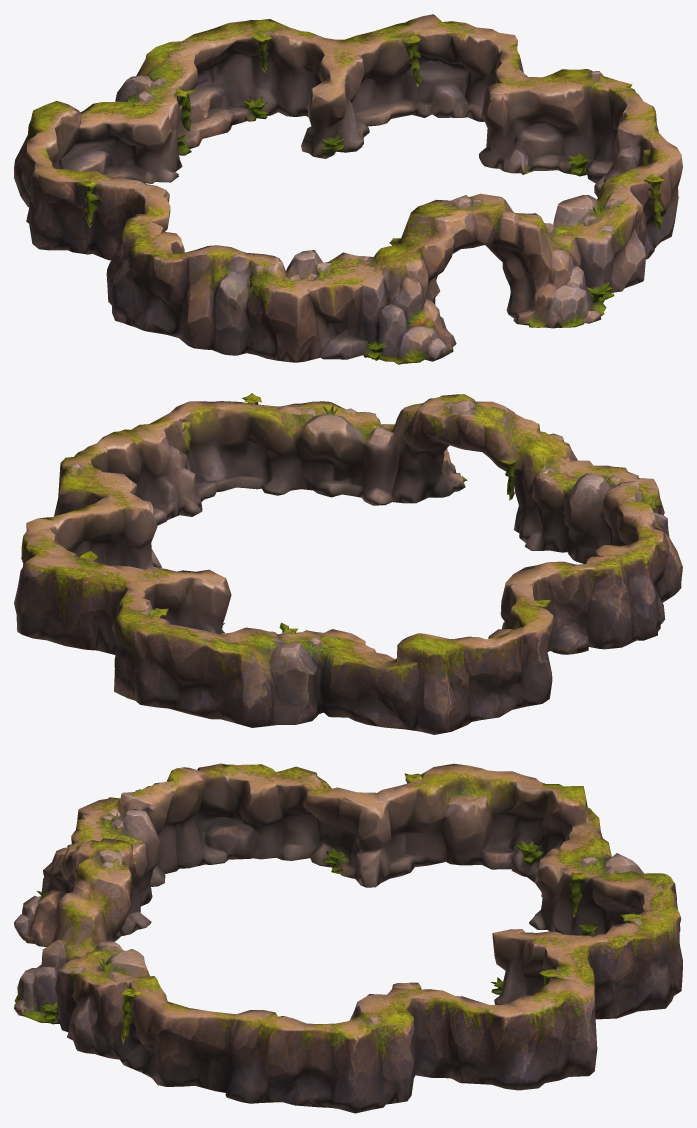
Rendered from rocky ring 3d model.glb.
3 views of the same model, one above another, from view 1: azimuth 30°, elevation 25°; view 2: azimuth 150°, elevation 25°; view 3: azimuth 270°, elevation 25° (orthographic). The views are drawn at different scales.
Visible parts, largest first — view 1: tripo_node_a78f6fa2-9e98-462b-8a63-55448cbf5dcc; view 2: tripo_node_a78f6fa2-9e98-462b-8a63-55448cbf5dcc; view 3: tripo_node_a78f6fa2-9e98-462b-8a63-55448cbf5dcc.
Boxes of the visible parts, x1,y1,x2,y2 form: tripo_node_a78f6fa2-9e98-462b-8a63-55448cbf5dcc: (14,14,682,364); tripo_node_a78f6fa2-9e98-462b-8a63-55448cbf5dcc: (14,393,682,734); tripo_node_a78f6fa2-9e98-462b-8a63-55448cbf5dcc: (14,763,682,1113).
Size of the model in its own units: 1 by 0.1939 by 0.9995.
1 material, 1 textured.
